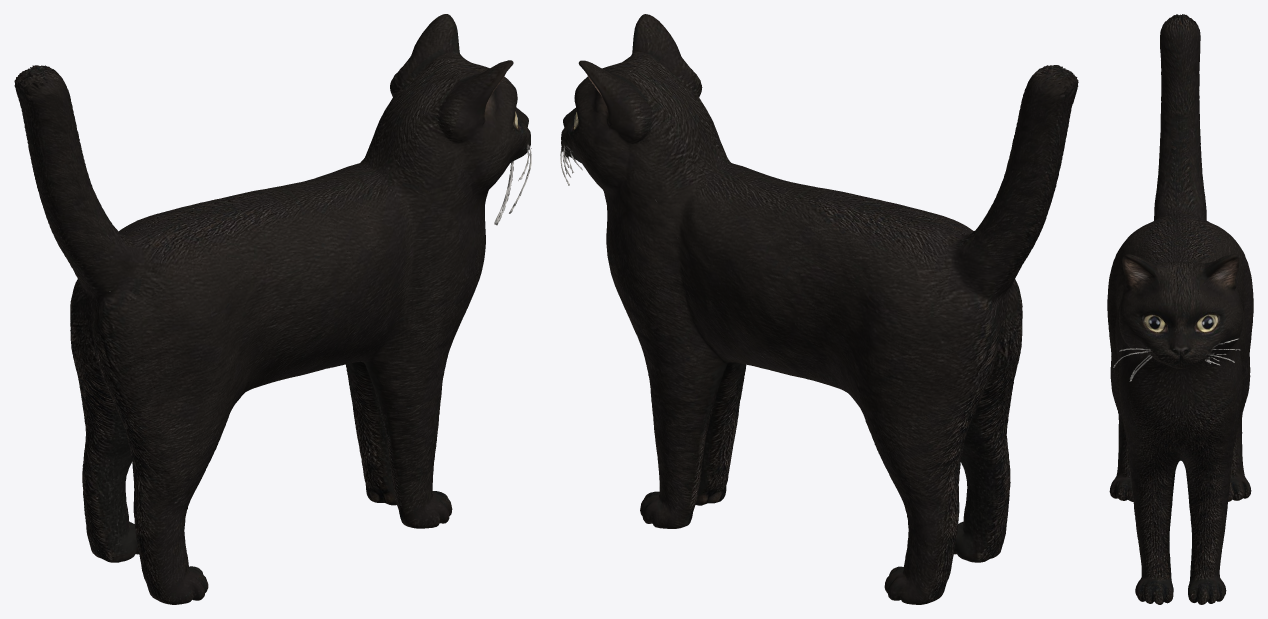
File: KONEROKU.glb
3 views of the same model, side by side, from view 1: azimuth 30°, elevation 25°; view 2: azimuth 150°, elevation 25°; view 3: azimuth 270°, elevation 25° (orthographic). The views are drawn at different scales.
Parts seen in each view (by area): view 1: tripo_node_9a890b8b-bfe1-42d8-8ac6-399e36ba68ab; view 2: tripo_node_9a890b8b-bfe1-42d8-8ac6-399e36ba68ab; view 3: tripo_node_9a890b8b-bfe1-42d8-8ac6-399e36ba68ab.
Boxes of the visible parts, x1,y1,x2,y2 form: tripo_node_9a890b8b-bfe1-42d8-8ac6-399e36ba68ab: (14, 14, 531, 604); tripo_node_9a890b8b-bfe1-42d8-8ac6-399e36ba68ab: (560, 14, 1078, 604); tripo_node_9a890b8b-bfe1-42d8-8ac6-399e36ba68ab: (1107, 14, 1253, 604).
Bounding box in the file's own units: 0.9953 × 0.9997 × 0.304.
Materials: 1 (1 with a texture image).
